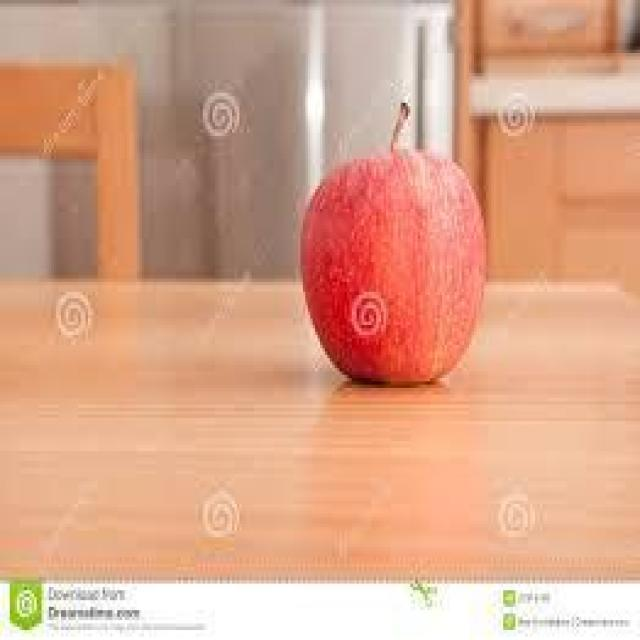maca: (298, 100, 486, 384)
